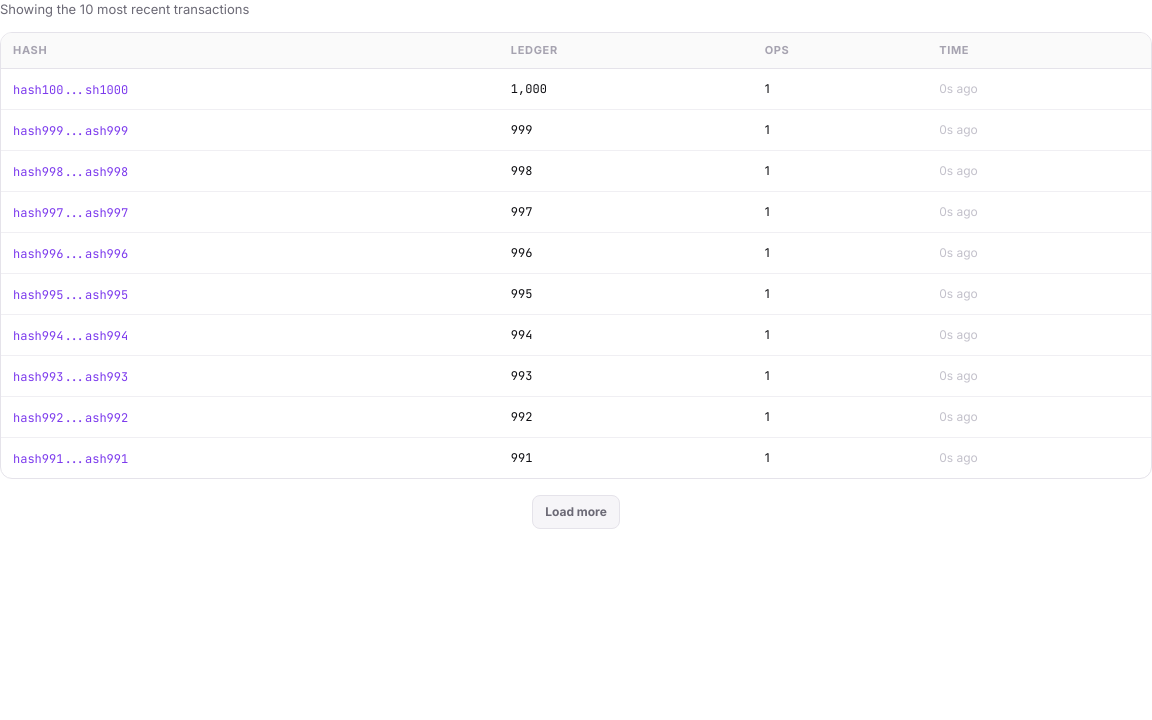
Test case: AccountTransactionList › widens the limit on load more and keeps only the new tail
Click the button "Load more" at (576, 512), box [532, 495, 620, 529]
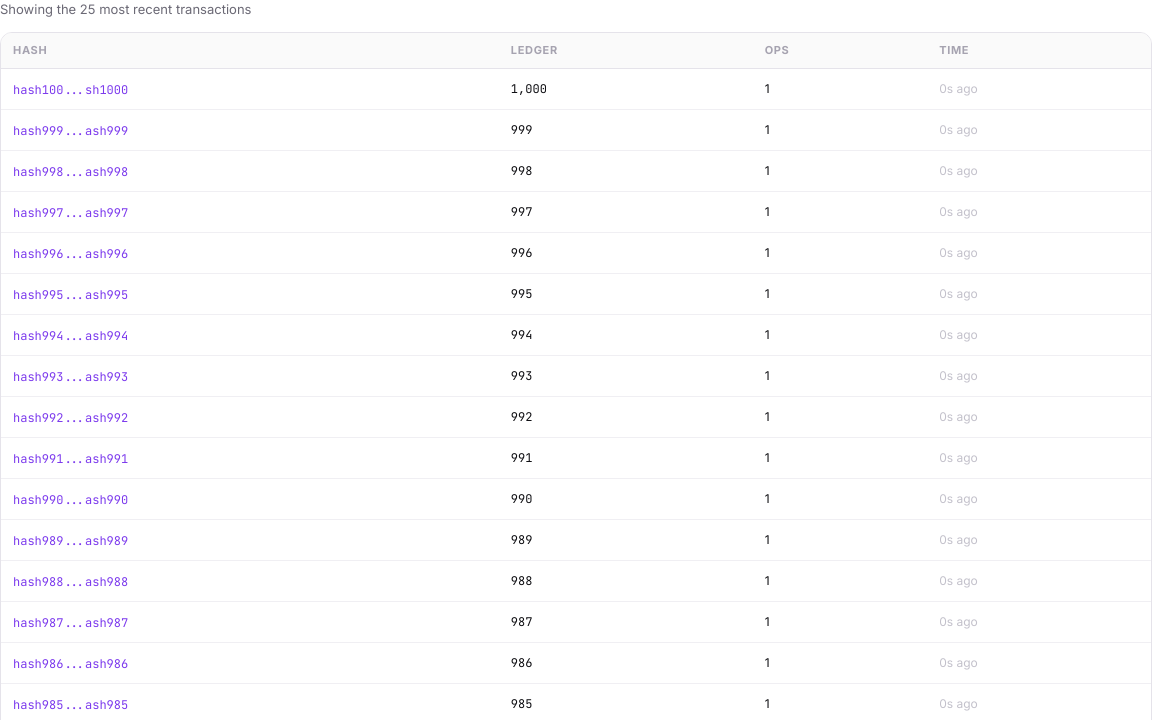
Expected: the text with test id "transaction-count" reads "Showing the 25 most recent transactions", [0, 1, 251, 17]
